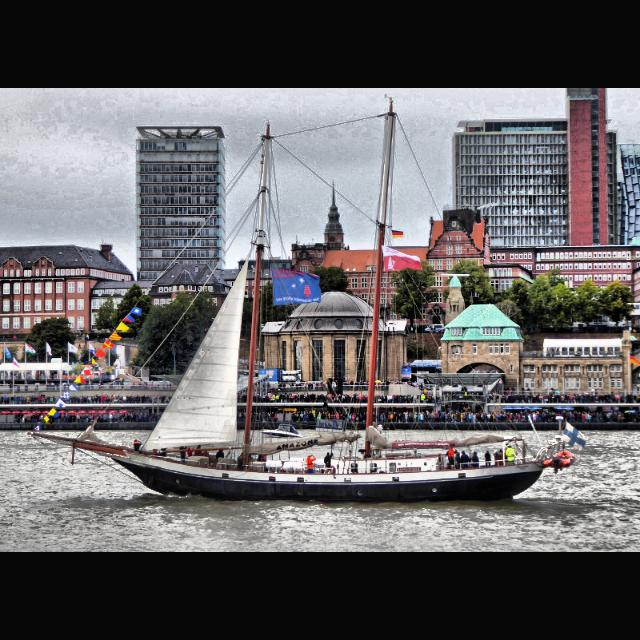sailing_vessel: (28, 94, 574, 506)
